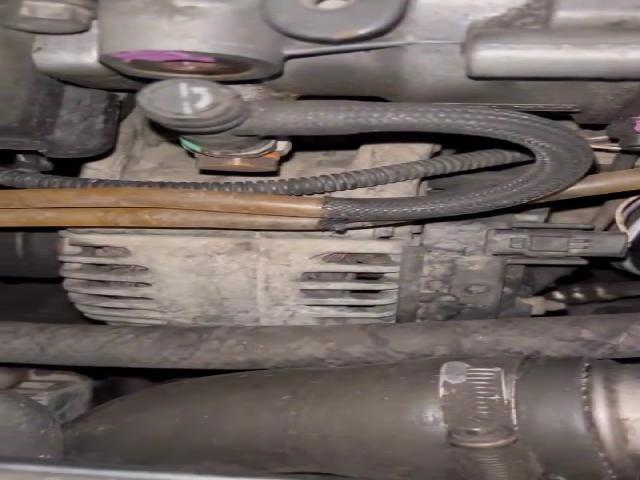alternator: (62, 229, 402, 325)
high_pressure_pump: (7, 0, 640, 123)
